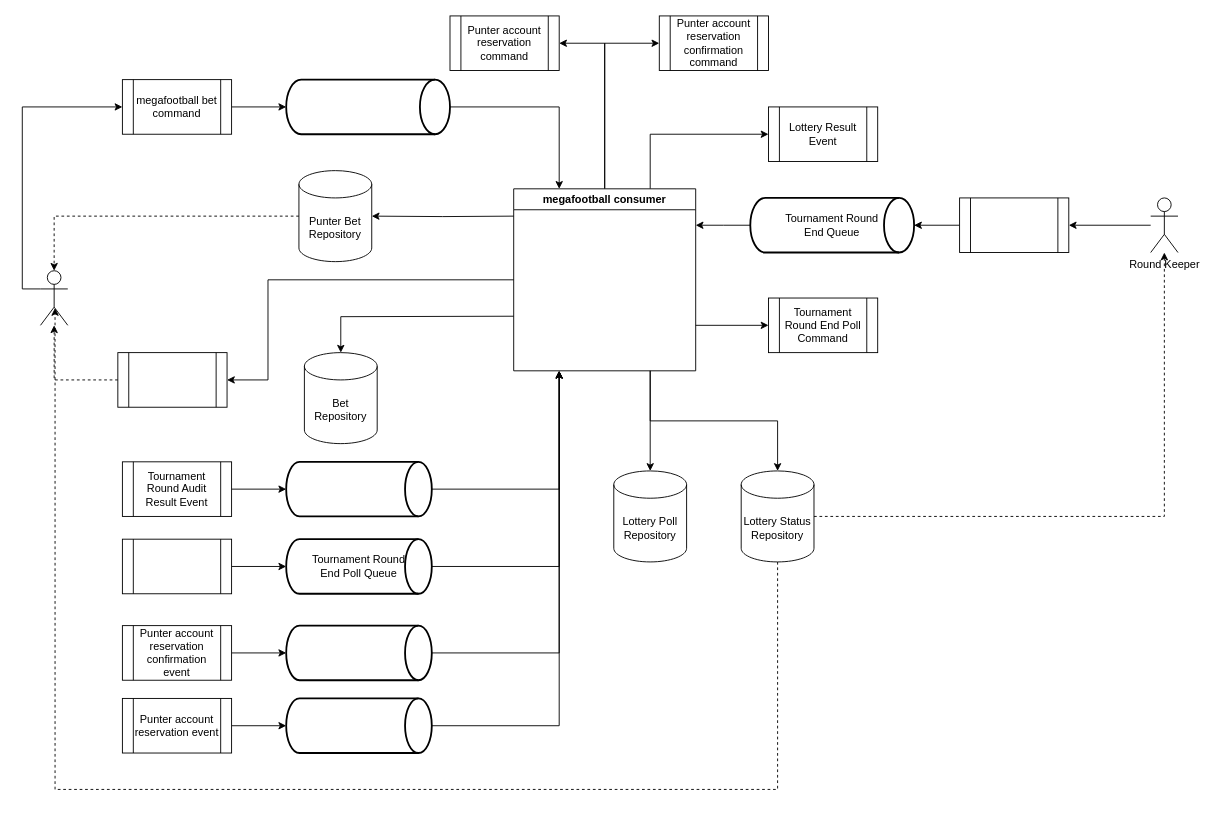
This 1215x813 diagram has some shape labels left out. The shapes that lost their labels are listed below. From the top down, each one's centre as x and y in pixels, then its label:
At [367,106]: "megafootball bet Queue".
At [1014,225]: "Tournament Round End Command".
At [54,297]: "Punter".
At [172,379]: "megafootball bet notification event".
At [358,488]: "Tournament Round Audit Queue".
At [176,566]: "Tournament Round End Poll Event".
At [358,652]: "Punter account reservation confirmation Queue".
At [358,725]: "Punter account reservation Queue".
